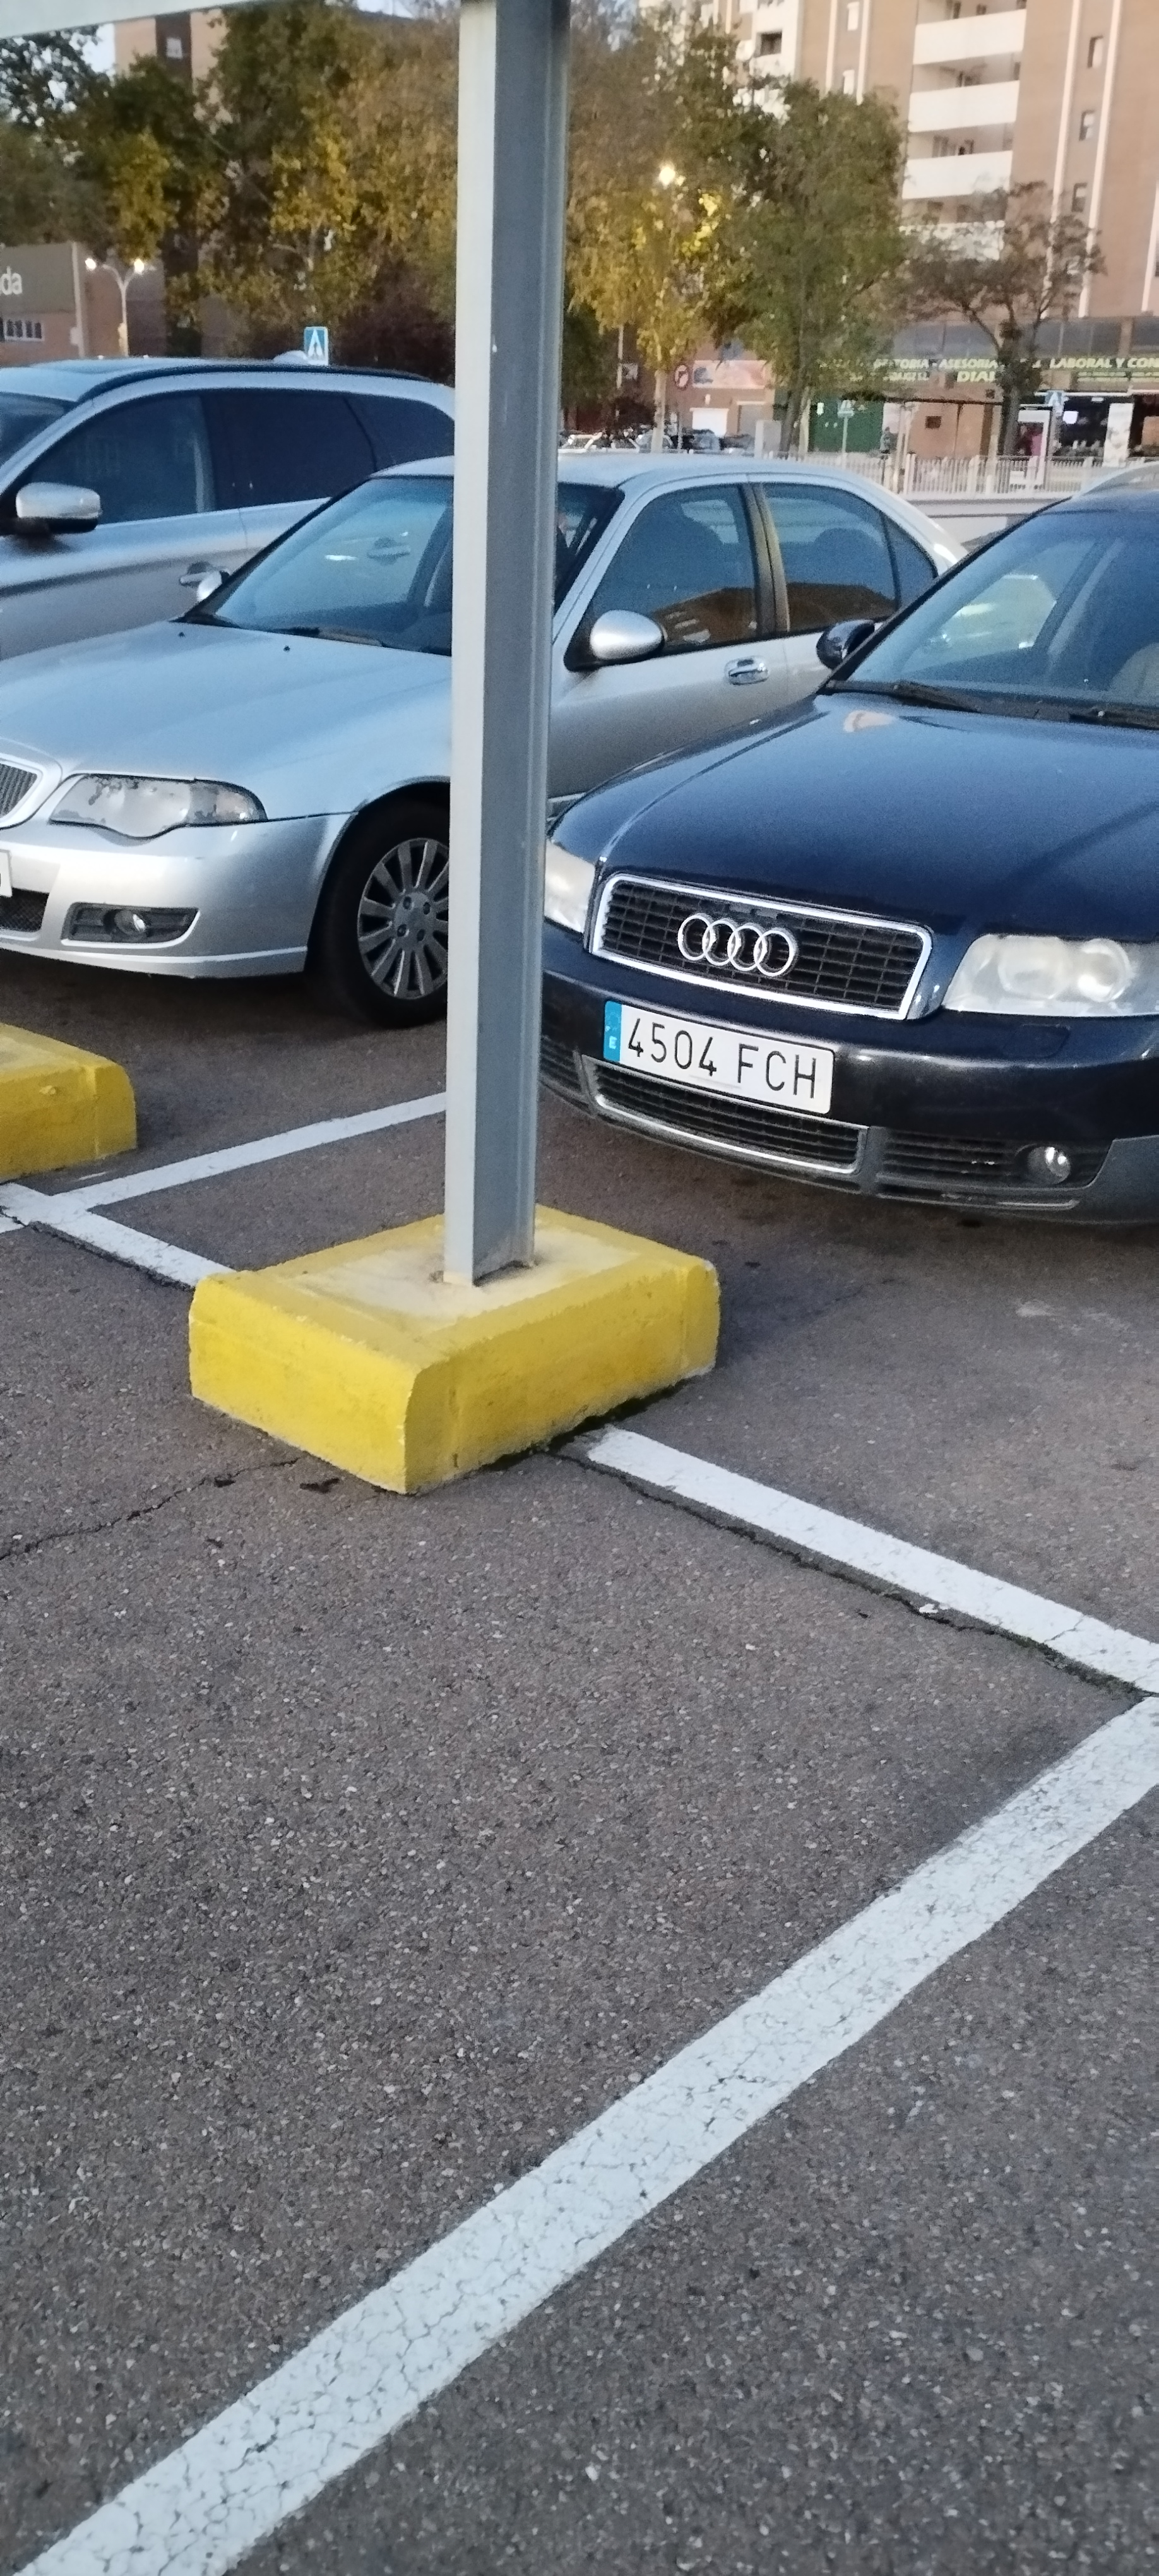Car: (516, 616, 1158, 1248)
Plate: (610, 996, 847, 1059)
